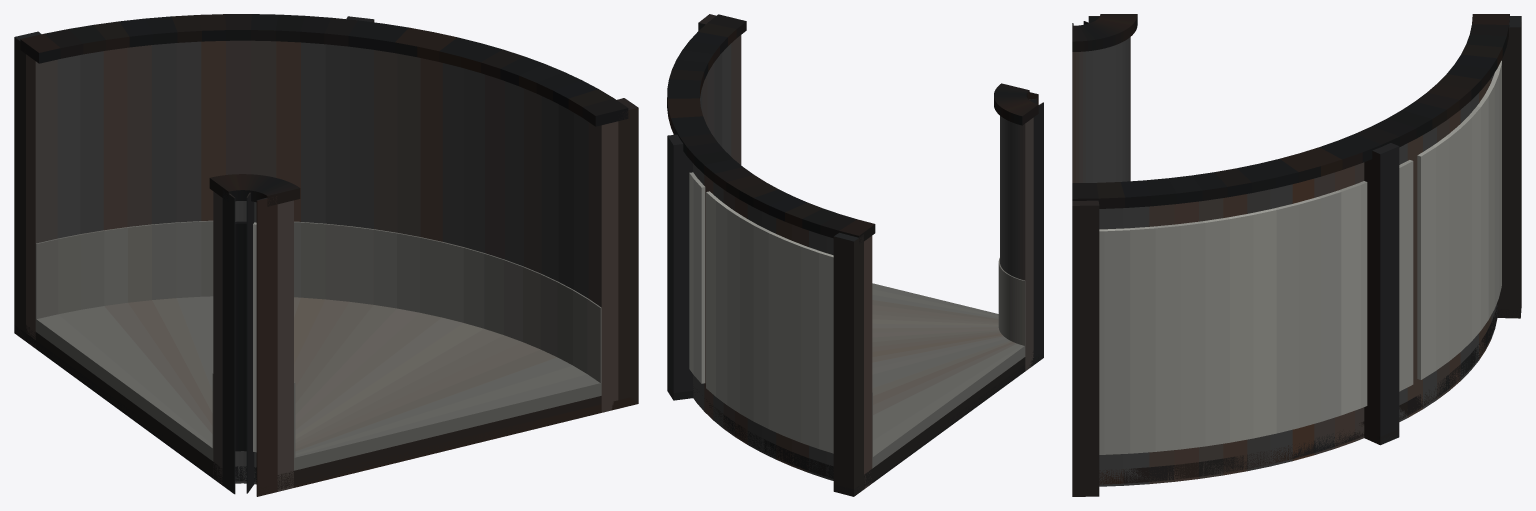
File: chute_h_turn_left.glb
3 views of the same model, side by side, from view 1: azimuth 30°, elevation 25°; view 2: azimuth 150°, elevation 25°; view 3: azimuth 270°, elevation 25° (orthographic). The views are drawn at different scales.
Parts seen in each view (by area): view 1: Frame; view 2: Frame; view 3: Frame.
Part boxes in pixels (bbox=[...]): Frame: bbox=[14, 14, 638, 496]; Frame: bbox=[667, 14, 1043, 496]; Frame: bbox=[1072, 14, 1521, 496].
Bounding box in the file's own units: 1.93 × 1.39 × 1.93.
